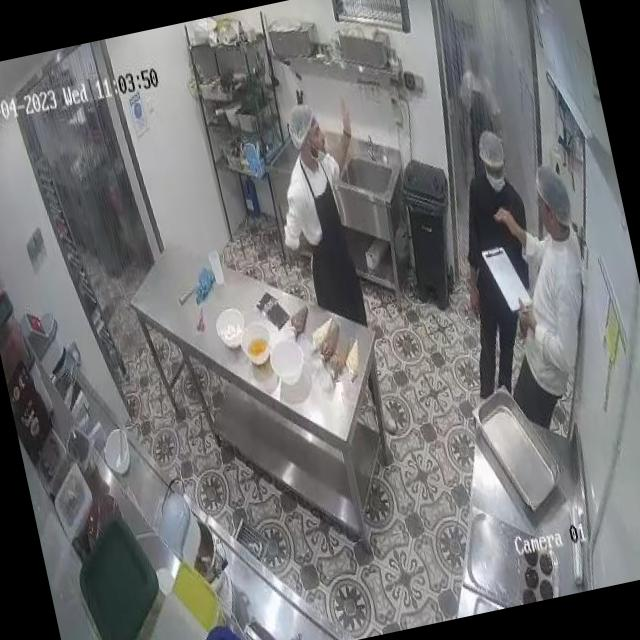hairnet: (536, 161, 574, 226), (474, 126, 505, 168), (284, 103, 316, 138)
